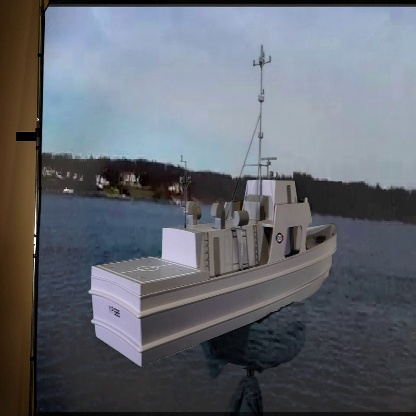YP689: (87, 46, 339, 368)
